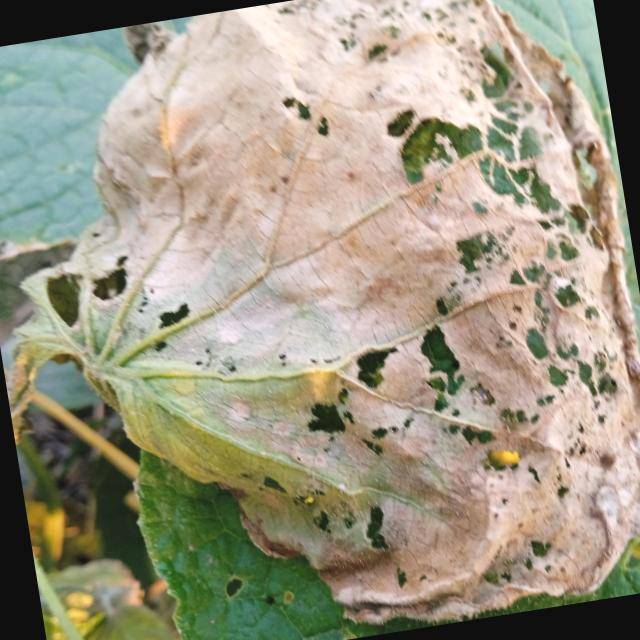cucumber_anthracnose: (18, 30, 640, 640)
